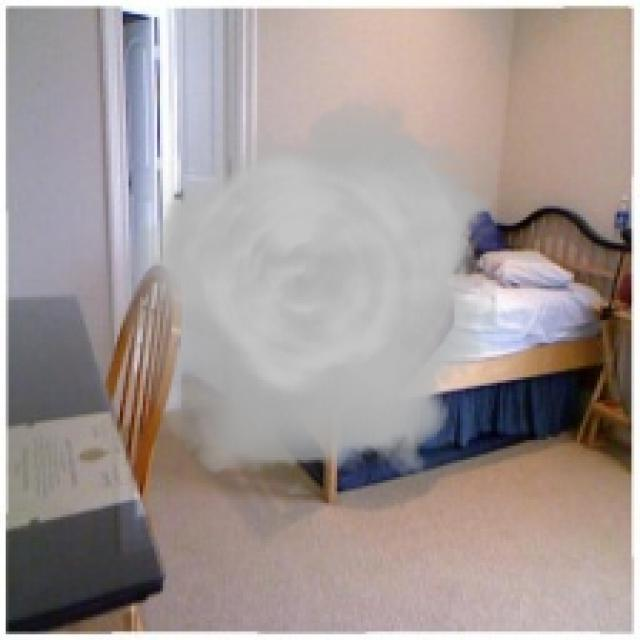Smoke: (120, 86, 497, 494)
